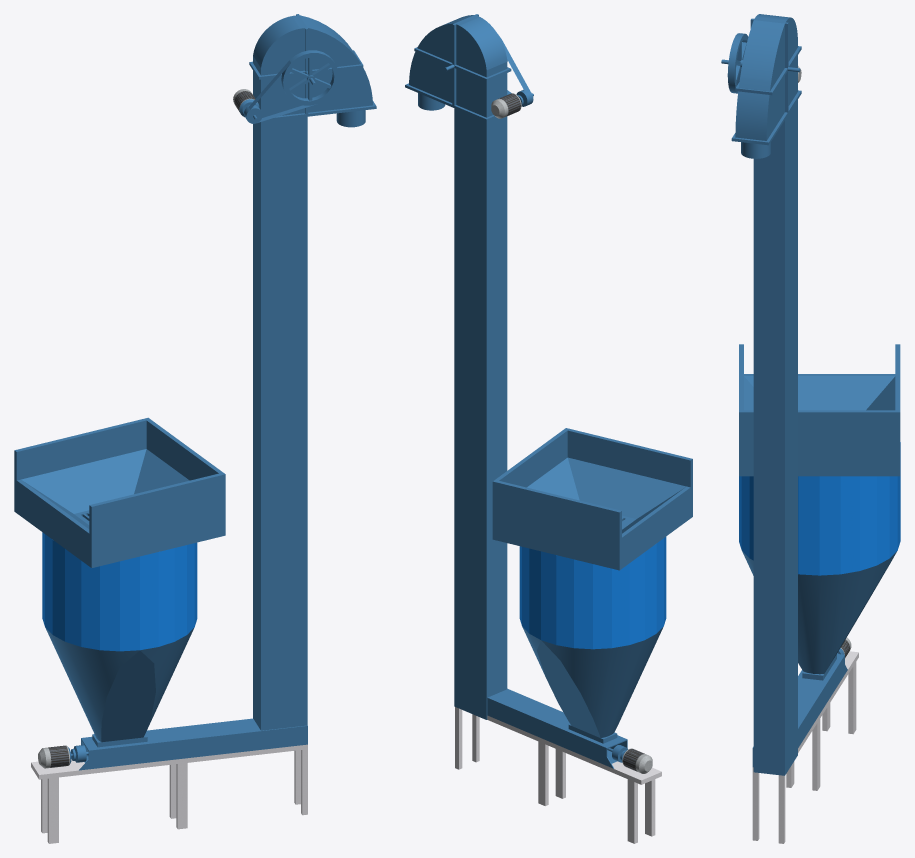
The picture shows the model from 3 angles, left to right: view 1: azimuth 30°, elevation 25°; view 2: azimuth 150°, elevation 25°; view 3: azimuth 270°, elevation 25°; orthographic projection. The views are drawn at different scales.
Parts seen in each view (by area): view 1: root; view 2: root; view 3: root.
Boxes of the visible parts, left/top/right/bottom form: root: left=14, top=14, right=376, bottom=843; root: left=405, top=14, right=692, bottom=843; root: left=721, top=14, right=900, bottom=843.
Bounding box in the file's own units: 3.58 × 8.98 × 1.78.
5 materials, 3 textured.
